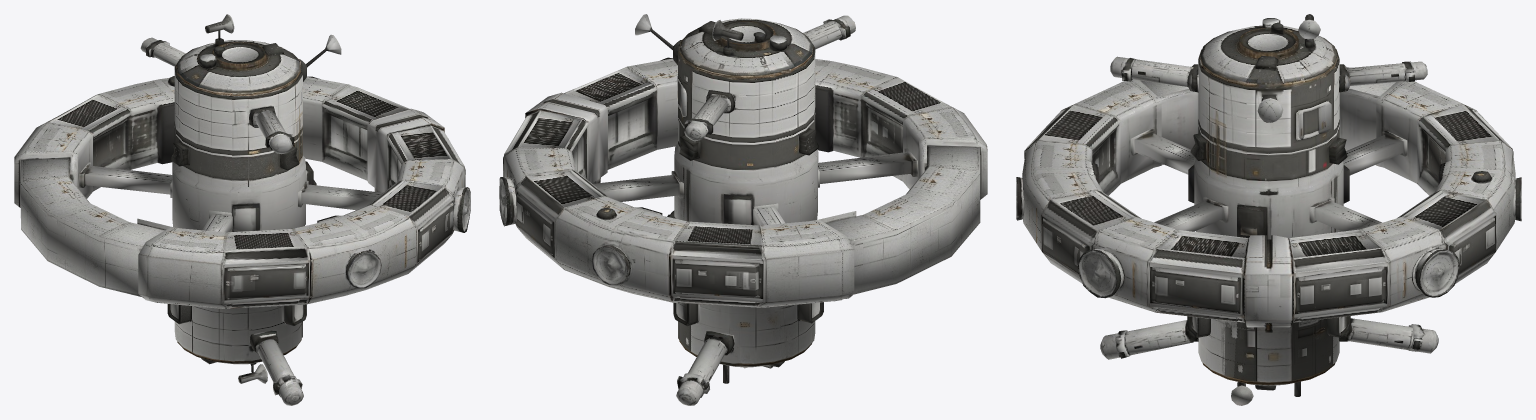
Rendered from tripo_convert_fa976724-2c28-4e99-8edf-1d7493ef19c3.fbx.
3 views of the same model, side by side, from view 1: azimuth 30°, elevation 25°; view 2: azimuth 150°, elevation 25°; view 3: azimuth 270°, elevation 25° (orthographic). The views are drawn at different scales.
Visible parts, largest first — view 1: tripo_node_fa976724; view 2: tripo_node_fa976724; view 3: tripo_node_fa976724.
Boxes of the visible parts, x1,y1,x2,y2 form: tripo_node_fa976724: (14,14,470,405); tripo_node_fa976724: (499,14,987,405); tripo_node_fa976724: (1016,14,1521,405).
Size of the model in its own units: 0.9785 by 0.8379 by 0.998.
1 material, 1 textured.
